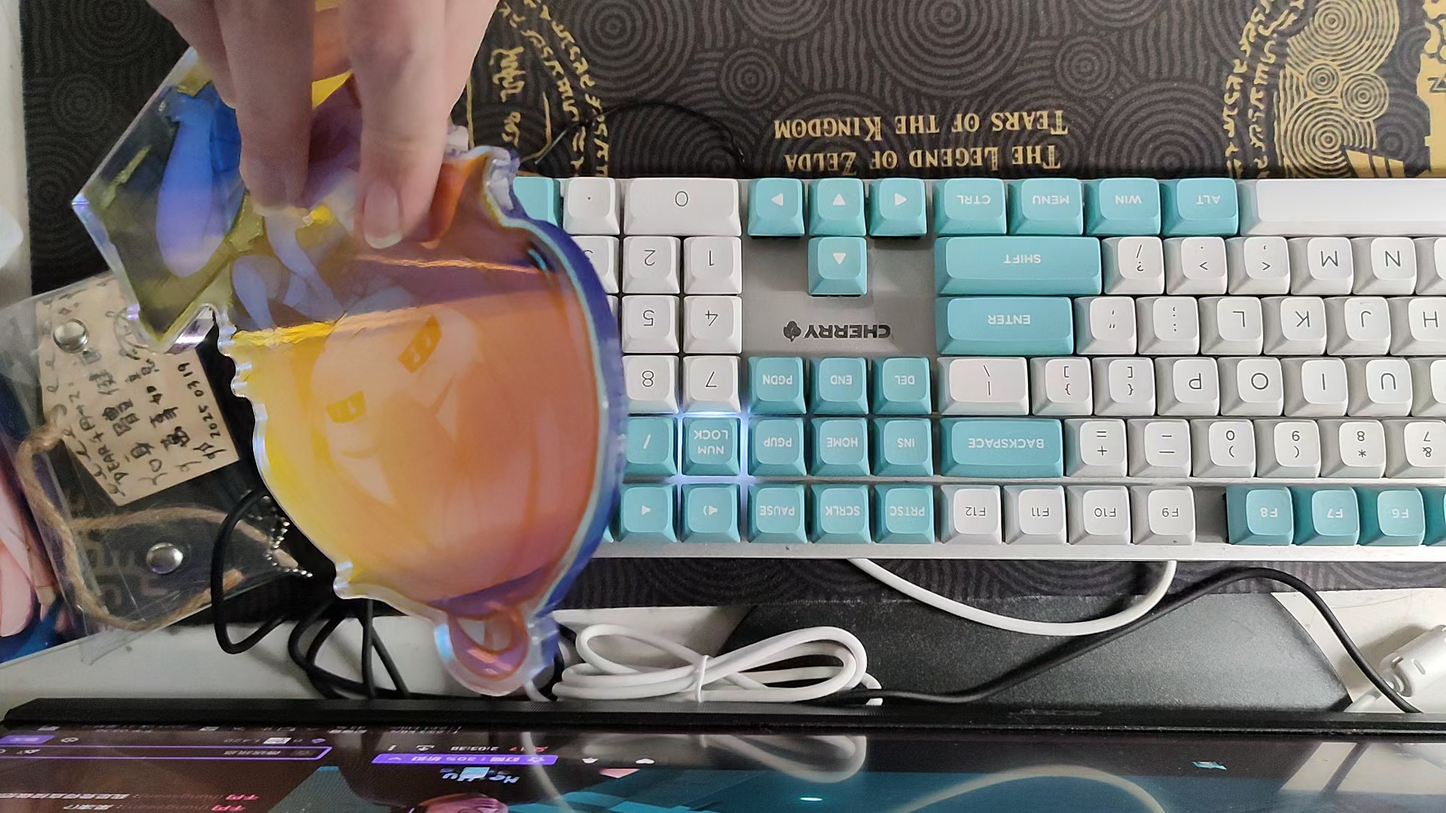Yanami-anna: (70, 0, 633, 702)
